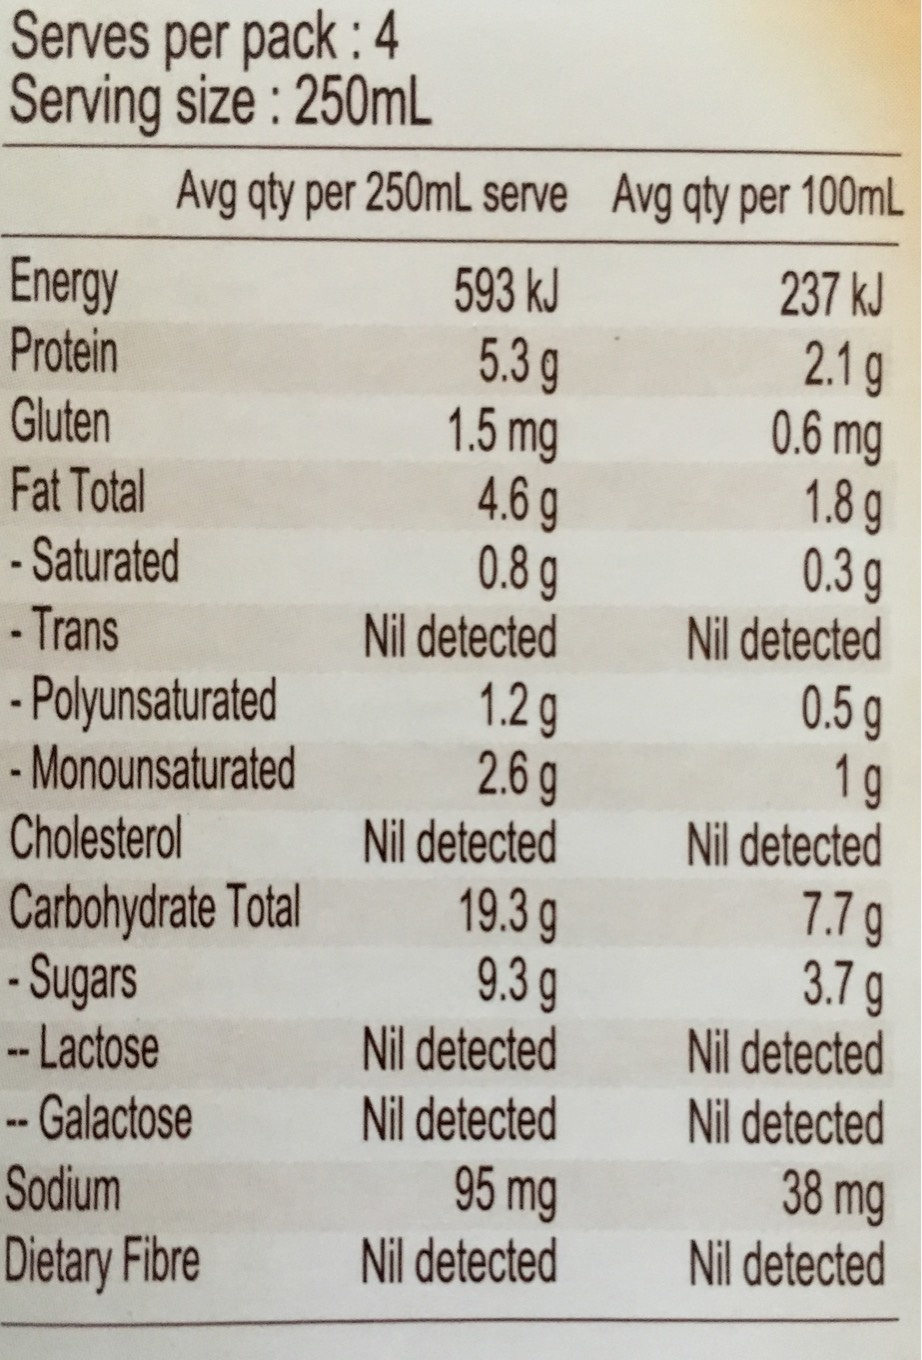column: (5, 245, 303, 1293), (678, 258, 889, 1297), (357, 249, 566, 1293)
table: (7, 8, 914, 1326)
